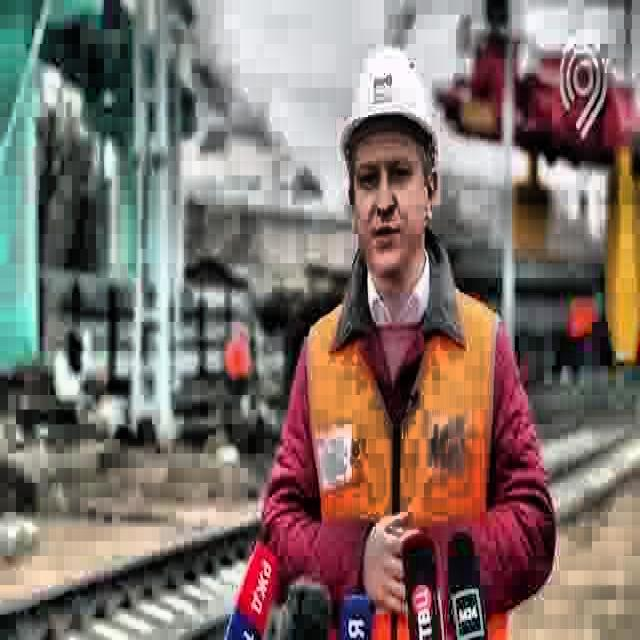safety_helmet: (338, 41, 442, 166)
safety_jacket: (302, 278, 510, 640)
